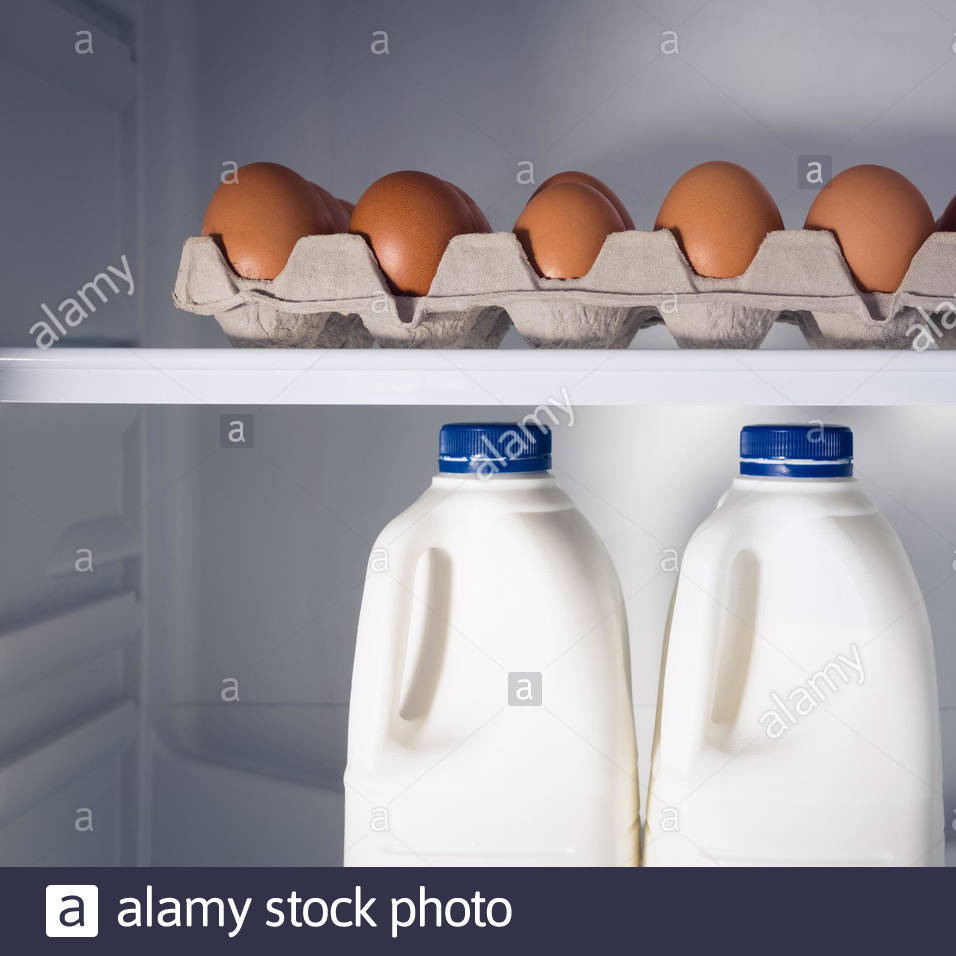egg: (180, 159, 956, 348)
